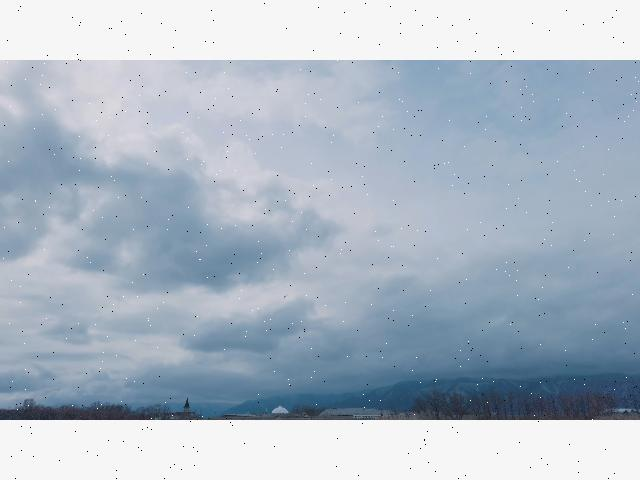Anti-Drone: (280, 290, 290, 302)
